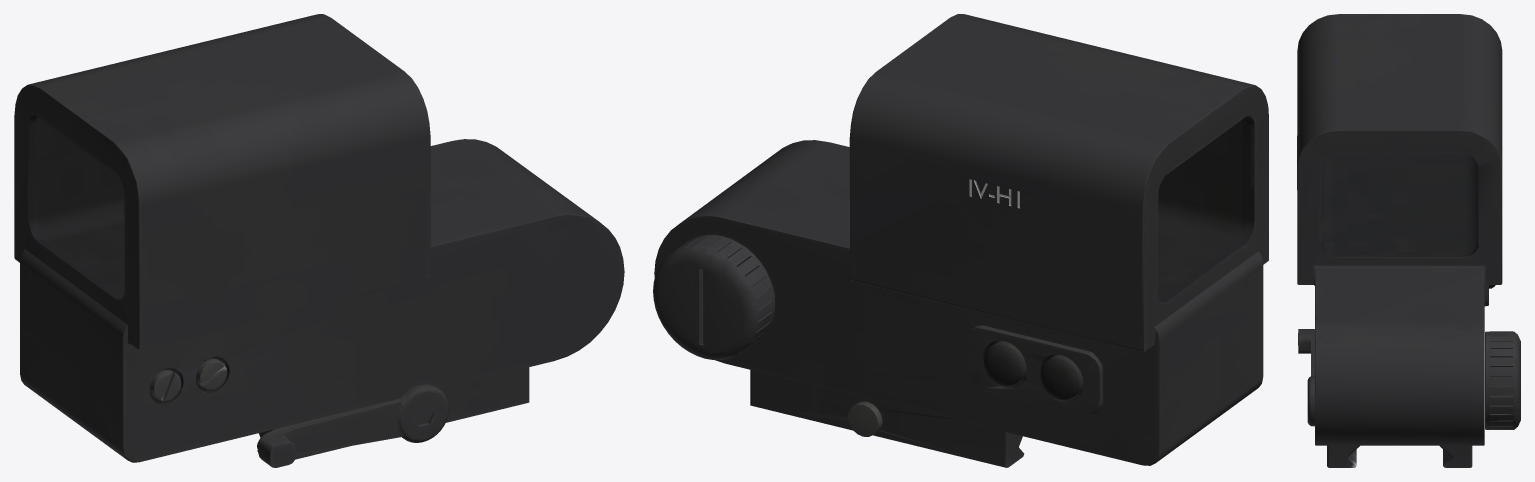
Rendered from IVH1_Holo_LOD1.glb.
3 views of the same model, side by side, from view 1: azimuth 30°, elevation 25°; view 2: azimuth 150°, elevation 25°; view 3: azimuth 270°, elevation 25° (orthographic). The views are drawn at different scales.
Visible parts, largest first — view 1: SM_IVH1_Holo_LOD1; view 2: SM_IVH1_Holo_LOD1; view 3: SM_IVH1_Holo_LOD1.
Boxes of the visible parts, bbox=[...] form: SM_IVH1_Holo_LOD1: bbox=[14, 14, 624, 467]; SM_IVH1_Holo_LOD1: bbox=[653, 14, 1268, 467]; SM_IVH1_Holo_LOD1: bbox=[1297, 14, 1520, 467].
Size of the model in its own units: 0.098 by 0.0669 by 0.0462.
3 materials, 1 textured.
